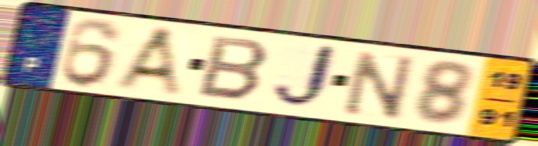6: (59, 15, 122, 91)
8: (412, 58, 476, 129)
A: (111, 25, 187, 100)
B: (195, 33, 273, 103)
J: (269, 42, 342, 113)
N: (341, 47, 418, 121)
